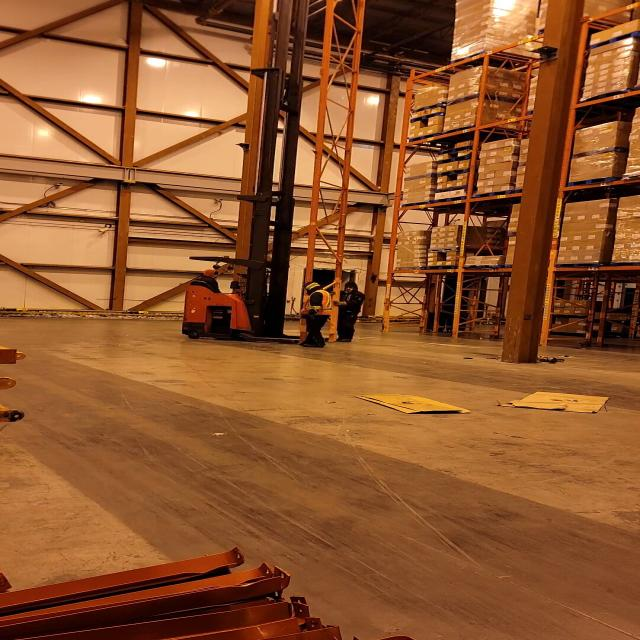forklift: (179, 193, 327, 348)
human: (296, 279, 335, 348), (336, 278, 368, 344), (183, 267, 231, 294)
objectofinterest: (291, 12, 355, 357), (494, 384, 614, 413), (351, 390, 474, 415)
